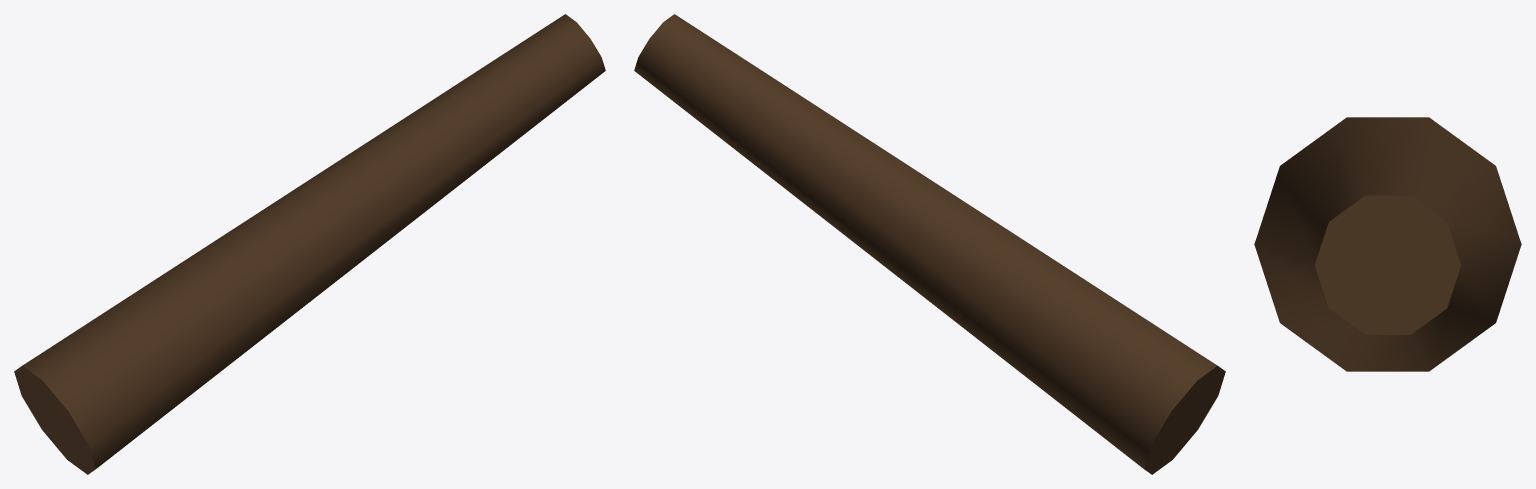
File: root-east.glb
The picture shows the model from 3 angles, left to right: view 1: azimuth 30°, elevation 25°; view 2: azimuth 150°, elevation 25°; view 3: azimuth 270°, elevation 25°; orthographic projection. The views are drawn at different scales.
Parts seen in each view (by area): view 1: Root east; view 2: Root east; view 3: Root east.
Part boxes in pixels (x1,y1,x2,y2): Root east: (14, 14, 605, 474); Root east: (634, 14, 1225, 474); Root east: (1254, 117, 1521, 371).
Bounding box in the file's own units: 35.61 × 19.87 × 7.32.
